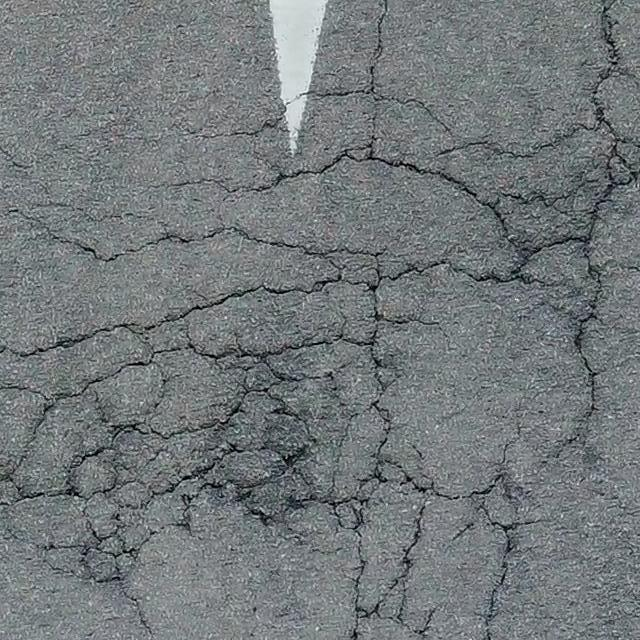GRIETA: (591, 0, 619, 112), (123, 589, 156, 639), (370, 0, 387, 88)
PIEL DE COCODRILO: (0, 83, 639, 635)
